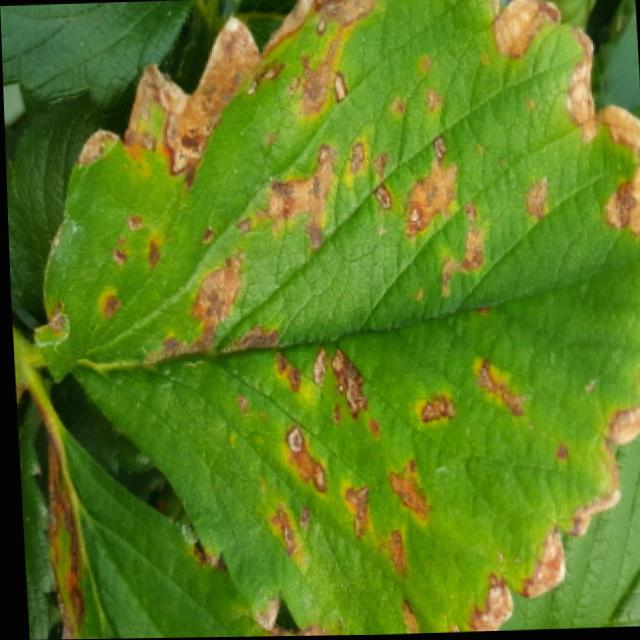Angular Leafspot: (33, 0, 640, 637), (20, 386, 292, 640)
